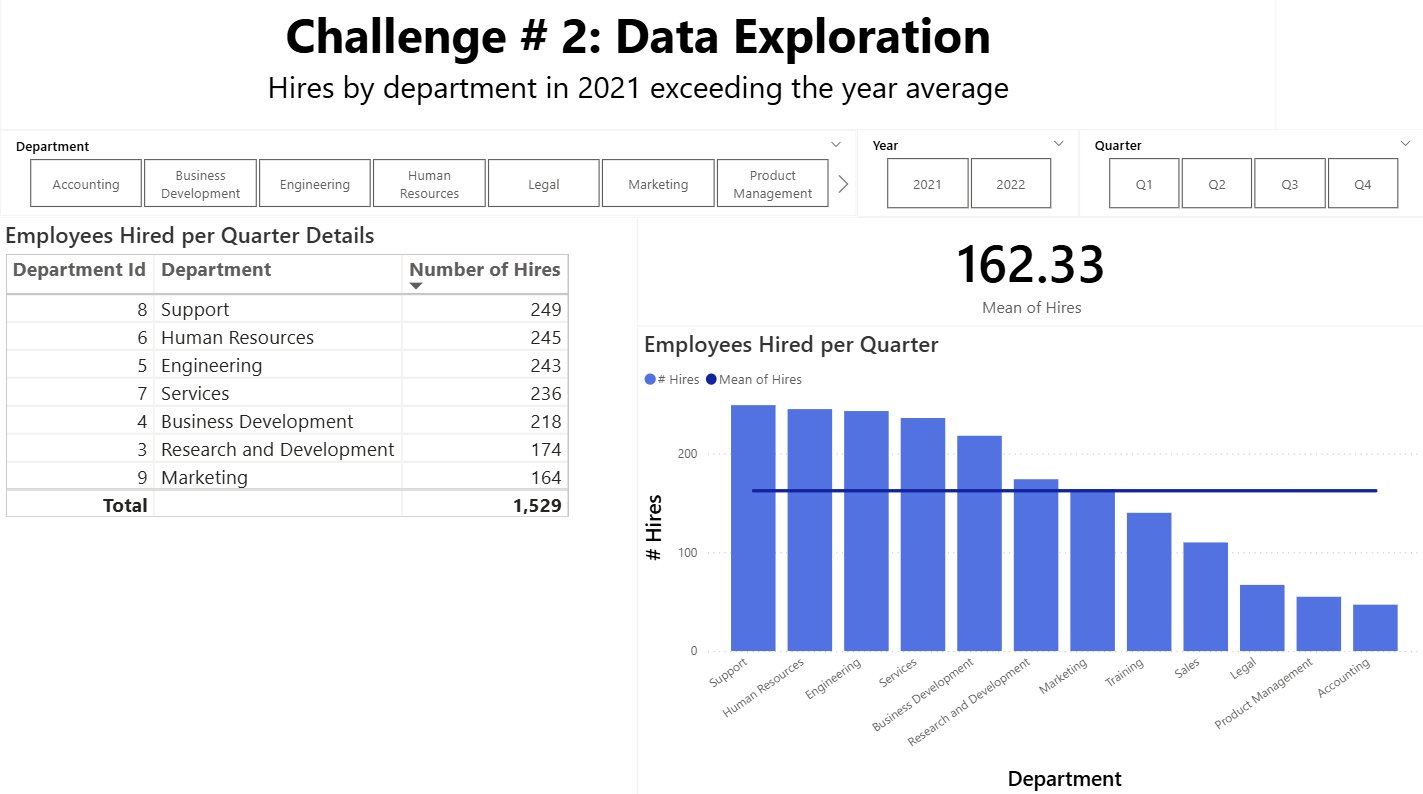

What the dashboard file says about the page in this screenshot:
{"tool":"powerbi","page":{"name":"HiresPerDepartment_MeanAverage","canvas":[1280,720],"ordinal":1},"visuals":[{"type":"tableEx","title":"Employees Hired per Quarter Details","fields":{"Values":["Departments.id","Departments.department","HiredEmployees.COUNT_HIRES"]},"box":[0,198.4,572.6,521.6],"z":0},{"type":"slicer","fields":{"Values":["Departments.department"]},"box":[1.9,120.9,767.2,77.5],"z":1000},{"type":"slicer","fields":{"Values":["DimDate.Year"]},"box":[769.1,119.8,199.2,79.3],"z":2000},{"type":"slicer","fields":{"Values":["DimDate.QuarterName"]},"box":[968.3,119.8,310.9,79.3],"z":3000},{"type":"lineClusteredColumnComboChart","title":"Employees Hired per Quarter","fields":{"Y":["HiredEmployees.COUNT_HIRES"],"Y2":["HiredEmployees.MEAN_HIRES"],"Category":["Departments.department"]},"box":[572.6,296.7,708.7,423.3],"z":5000},{"type":"textbox","box":[1.6,0,1143.2,121.4],"z":6000},{"type":"card","fields":{"Values":["HiredEmployees.MEAN_HIRES"]},"box":[572.6,198.4,706.8,98.3],"z":7000}]}

Visuals, with their boxes in screenshot pixels (x1, y1, x2, y2), scaled from the page's 1280x720 canvas onto the 1423x794 screenshot:
"Employees Hired per Quarter Details" tableEx: <bbox>0, 219, 637, 793</bbox>
slicer - Departments.department: <bbox>2, 133, 855, 219</bbox>
slicer - DimDate.Year: <bbox>855, 132, 1076, 220</bbox>
slicer - DimDate.QuarterName: <bbox>1076, 132, 1422, 220</bbox>
"Employees Hired per Quarter" lineClusteredColumnComboChart: <bbox>637, 327, 1422, 793</bbox>
textbox: <bbox>2, 0, 1273, 134</bbox>
card - HiredEmployees.MEAN_HIRES: <bbox>637, 219, 1422, 327</bbox>
